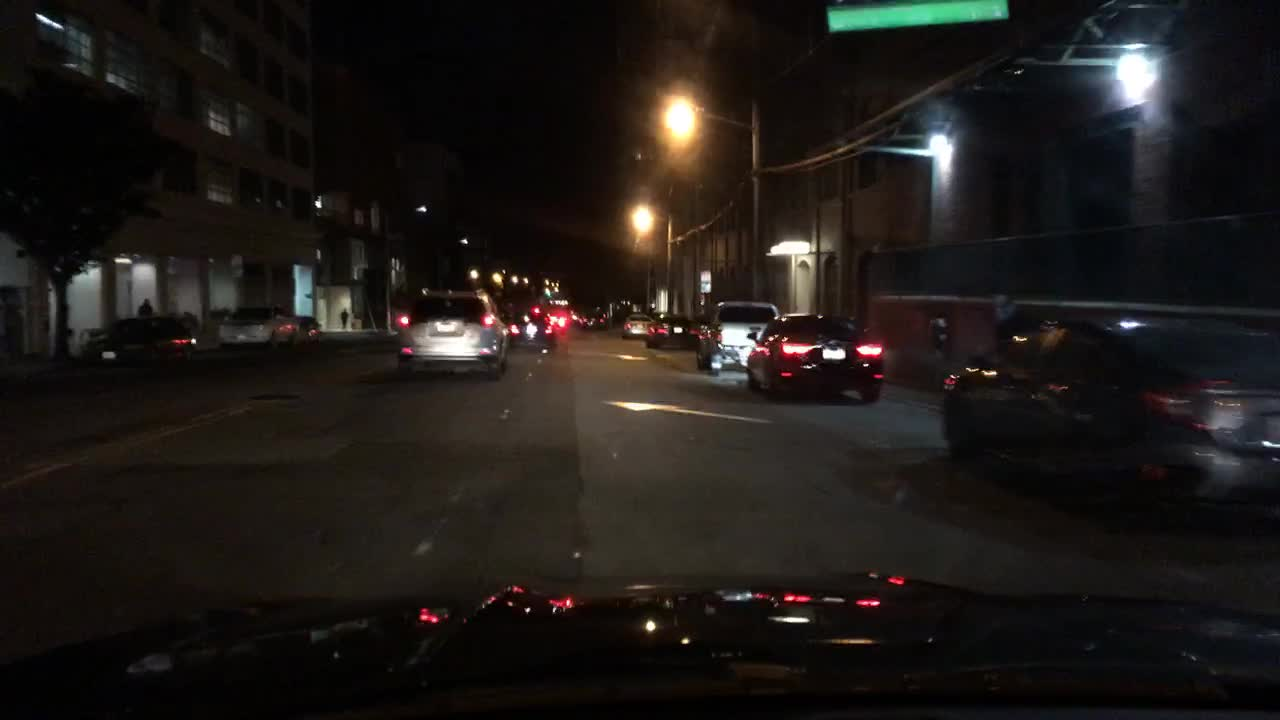car: (940, 312, 1278, 514), (745, 311, 883, 401), (392, 285, 511, 378), (694, 299, 779, 375), (82, 314, 197, 370), (218, 303, 295, 349), (507, 309, 558, 347), (643, 312, 693, 349), (622, 312, 653, 339), (295, 314, 322, 342), (550, 309, 572, 332), (581, 315, 604, 329)
person: (137, 296, 154, 314), (340, 306, 348, 329)
traffic sign: (827, 0, 1008, 29), (699, 269, 711, 292)
